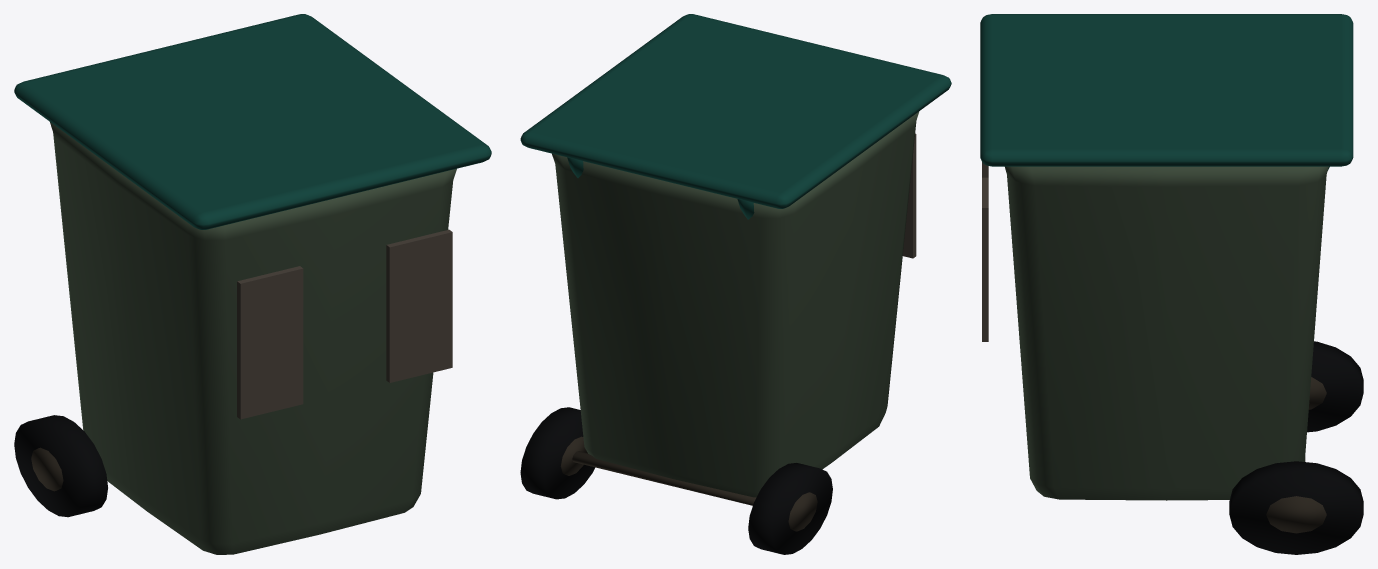
Rendered from bin-burning.glb.
3 views of the same model, side by side, from view 1: azimuth 30°, elevation 25°; view 2: azimuth 150°, elevation 25°; view 3: azimuth 270°, elevation 25° (orthographic). The views are drawn at different scales.
Visible parts, largest first — view 1: bin-burning, soot.001, soot; view 2: bin-burning, soot; view 3: bin-burning, soot.001.
Boxes of the visible parts, x1=… form: bin-burning: x1=14, y1=14, x2=491, y2=554; soot.001: x1=386, y1=229, x2=452, y2=382; soot: x1=237, y1=266, x2=303, y2=419; bin-burning: x1=520, y1=14, x2=951, y2=554; soot: x1=903, y1=133, x2=916, y2=258; bin-burning: x1=980, y1=14, x2=1363, y2=554; soot.001: x1=982, y1=177, x2=988, y2=341.
Bounding box in the file's own units: 0.7575 × 0.999 × 0.8558.
Materials: 3 (1 with a texture image).
